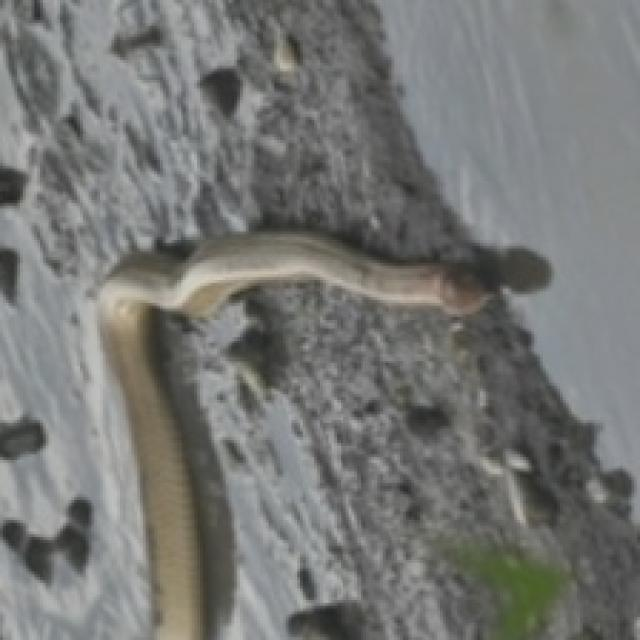king cobra: (0, 0, 471, 637), (100, 231, 486, 637), (209, 560, 363, 637)
